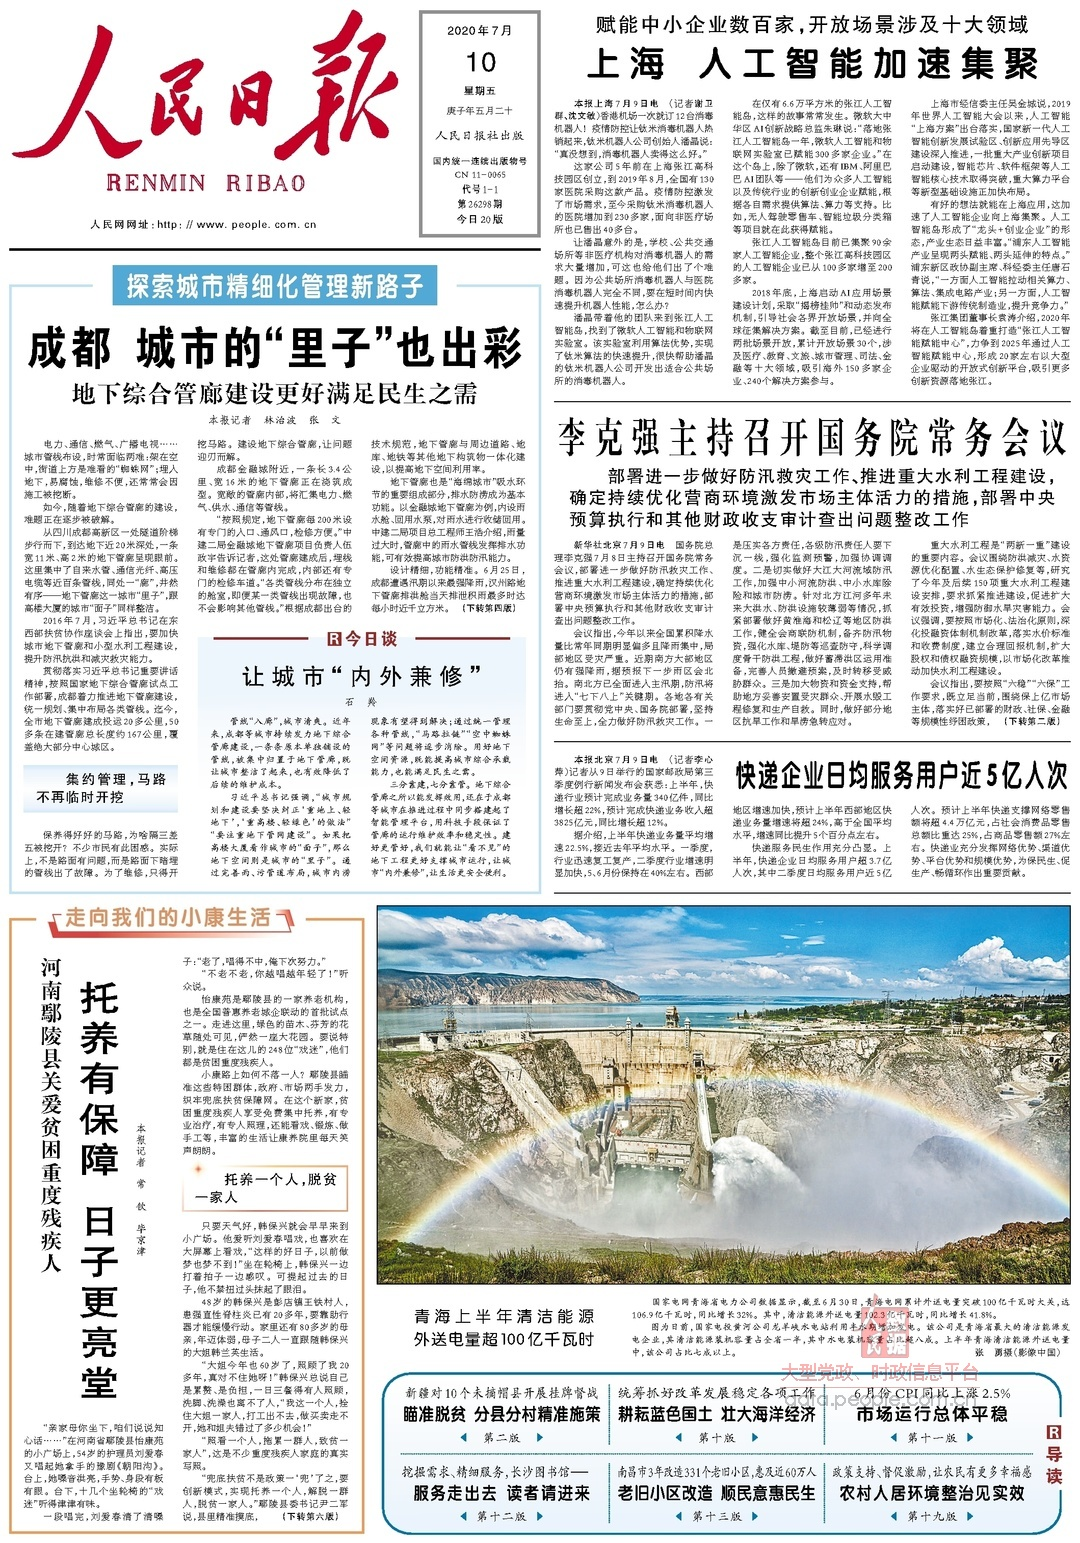pic: (371, 900, 1076, 1293)
